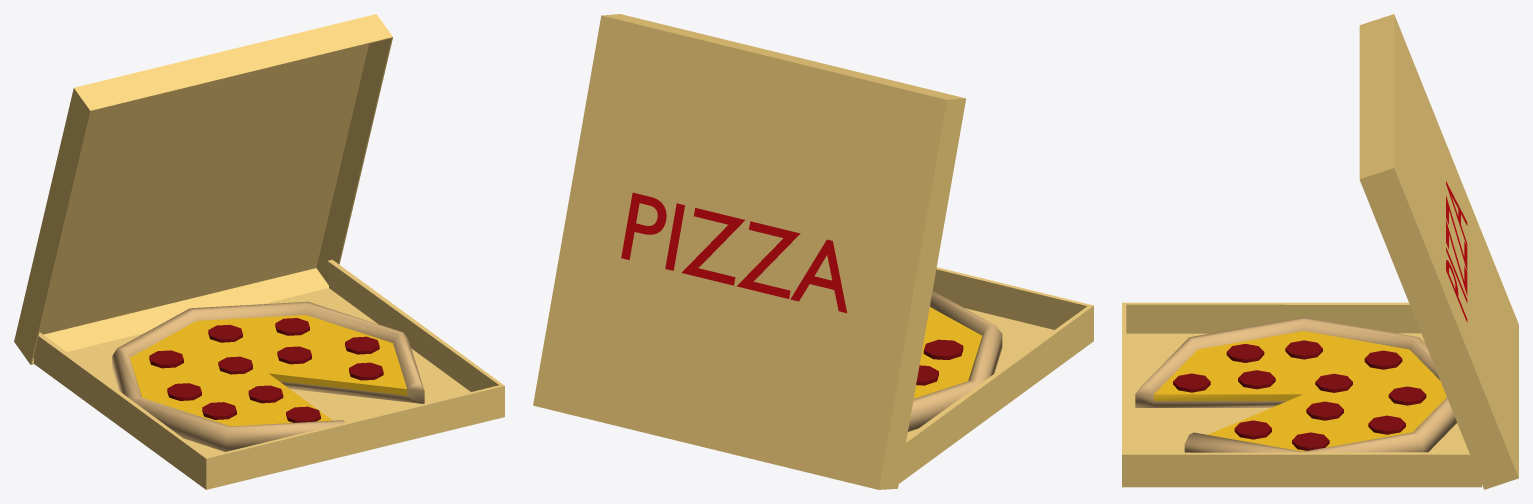
3 renders of one model, left to right at view 1: azimuth 30°, elevation 25°; view 2: azimuth 150°, elevation 25°; view 3: azimuth 270°, elevation 25°, orthographic. The views are drawn at different scales.
Visible parts, largest first — view 1: BOXtop01, BOXbottom01, PizzaEaten, Salami01; view 2: BOXtop01, BOXbottom01, PizzaEaten, Salami01; view 3: BOXtop01, BOXbottom01, PizzaEaten, Salami01.
Boxes of the visible parts, bbox=[...] form: BOXtop01: bbox=[14, 14, 392, 364]; BOXbottom01: bbox=[33, 259, 504, 489]; PizzaEaten: bbox=[112, 301, 424, 451]; Salami01: bbox=[149, 318, 383, 422]; BOXtop01: bbox=[533, 14, 966, 489]; BOXbottom01: bbox=[899, 267, 1093, 483]; PizzaEaten: bbox=[908, 291, 1002, 431]; Salami01: bbox=[916, 339, 963, 385]; BOXtop01: bbox=[1359, 14, 1518, 489]; BOXbottom01: bbox=[1122, 302, 1481, 487]; PizzaEaten: bbox=[1135, 317, 1456, 452]; Salami01: bbox=[1173, 340, 1426, 450].
Size of what is drawn, in the model's own units: 0.4055 by 0.395 by 0.4412.
1 material, 1 textured.
